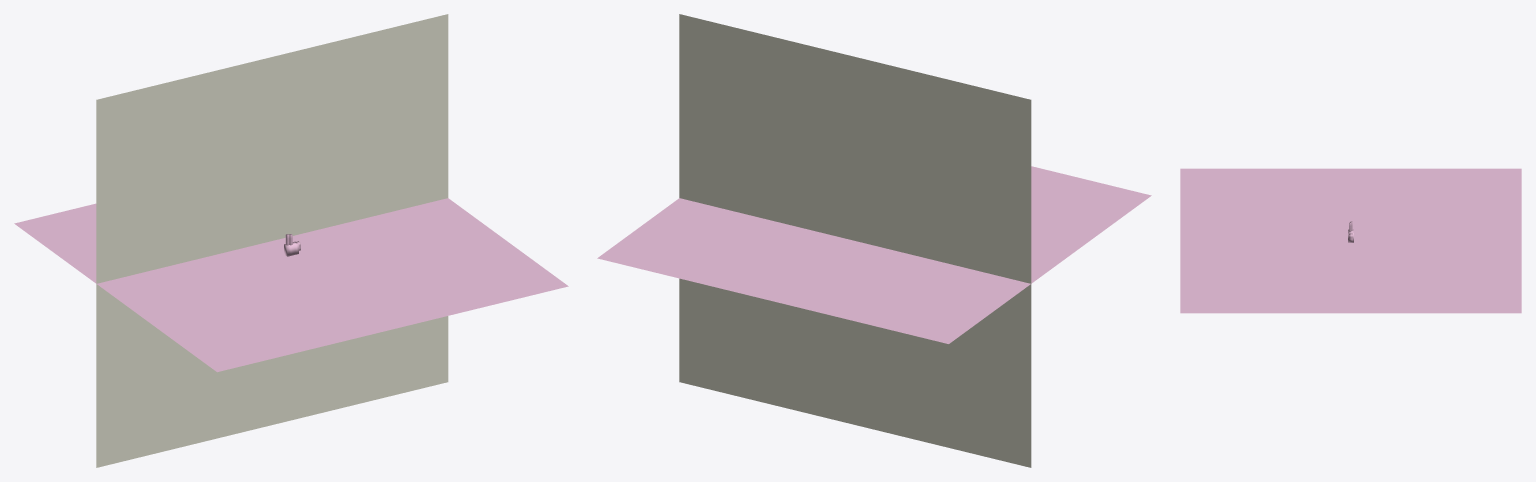
The picture shows the model from 3 angles, left to right: view 1: azimuth 30°, elevation 25°; view 2: azimuth 150°, elevation 25°; view 3: azimuth 270°, elevation 25°; orthographic projection. The views are drawn at different scales.
Visible parts, largest first — view 1: Plane.001, Plane; view 2: Plane.001, Plane; view 3: Plane.
Boxes of the visible parts, x1,y1,x2,y2 form: Plane.001: (96,14,448,467); Plane: (14,198,568,372); Plane.001: (679,14,1031,467); Plane: (597,166,1151,343); Plane: (1180,168,1521,313).
Bounding box in the file's own units: 73.95 × 73.95 × 73.95.
